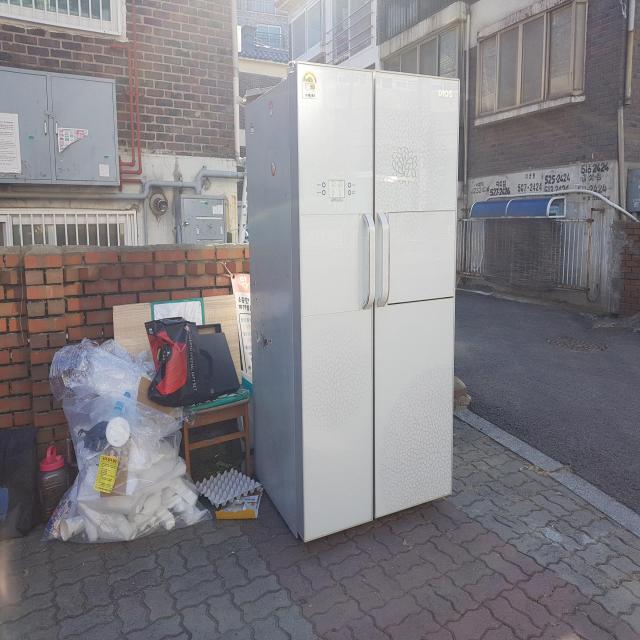refrigerator: (244, 57, 462, 543)
